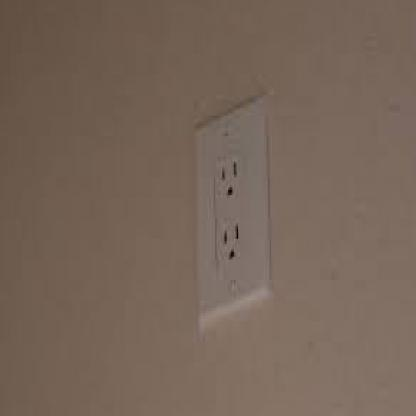OUTLET: (75, 58, 313, 369), (117, 95, 300, 341), (198, 128, 272, 328)
